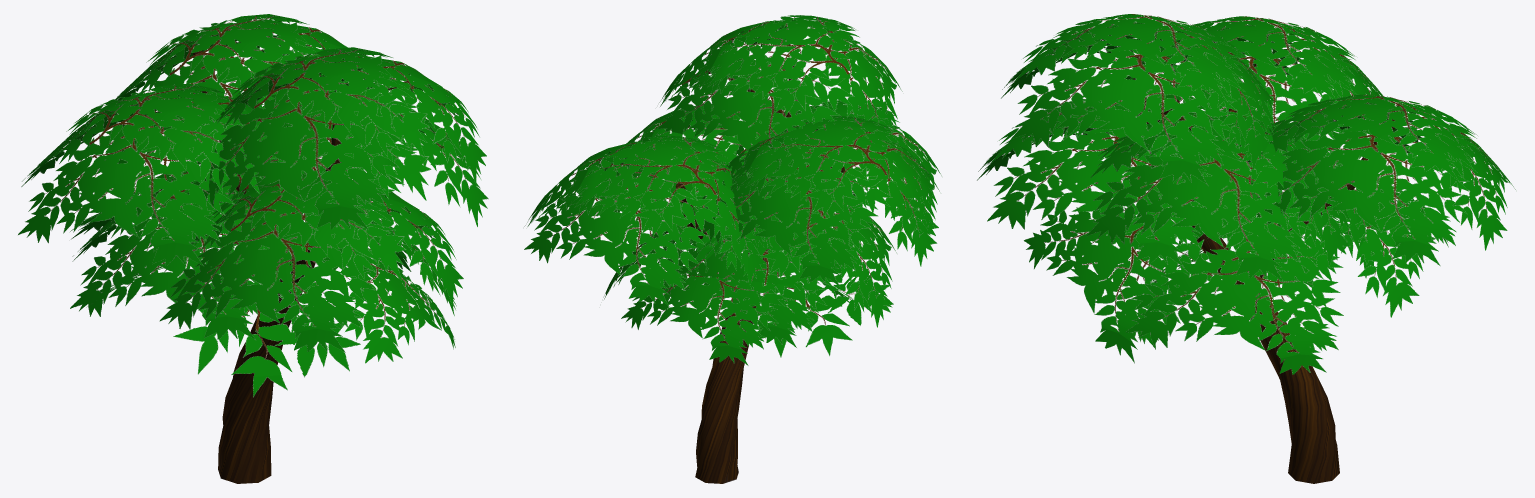
File: tree03.fbx
3 renders of one model, left to right at view 1: azimuth 30°, elevation 25°; view 2: azimuth 150°, elevation 25°; view 3: azimuth 270°, elevation 25°, orthographic. The views are drawn at different scales.
Visible parts, largest first — view 1: pPlane58, pPlane62, pPlane59, pPlane60, pPlane68, wood01, pPlane61, pPlane63, pPlane67, pPlane64; view 2: pPlane60, pPlane59, pPlane58, pPlane68, pPlane65, wood01, pPlane61, pPlane62, pPlane66; view 3: pPlane58, pPlane60, pPlane61, pPlane64, pPlane62, pPlane59, pPlane63, wood01, pPlane65, pPlane68.
Boxes of the visible parts, <box> form: pPlane58: <box>187,47,486,229</box>; pPlane62: <box>159,172,463,352</box>; pPlane59: <box>18,83,311,265</box>; pPlane60: <box>104,14,390,163</box>; pPlane68: <box>70,171,367,339</box>; wood01: <box>170,50,409,483</box>; pPlane61: <box>203,91,488,272</box>; pPlane63: <box>345,248,455,363</box>; pPlane67: <box>173,276,360,397</box>; pPlane64: <box>365,212,456,315</box>; pPlane60: <box>524,135,766,306</box>; pPlane59: <box>697,116,939,286</box>; pPlane58: <box>657,15,902,180</box>; pPlane68: <box>658,185,896,347</box>; pPlane65: <box>621,260,801,365</box>; wood01: <box>675,59,844,483</box>; pPlane61: <box>597,104,811,264</box>; pPlane62: <box>717,100,941,263</box>; pPlane66: <box>757,263,892,357</box>; pPlane58: <box>1001,14,1275,185</box>; pPlane60: <box>1245,94,1515,266</box>; pPlane61: <box>1086,112,1350,282</box>; pPlane64: <box>1125,235,1343,374</box>; pPlane62: <box>977,99,1242,267</box>; pPlane59: <box>1125,16,1384,167</box>; pPlane63: <box>1024,207,1220,363</box>; wood01: <box>1133,56,1405,483</box>; pPlane65: <box>1346,177,1448,317</box>; pPlane68: <box>1130,131,1387,287</box>.
Size of the model in its own units: 53.1 by 56.63 by 63.2.
Materials: 1 (1 with a texture image).
